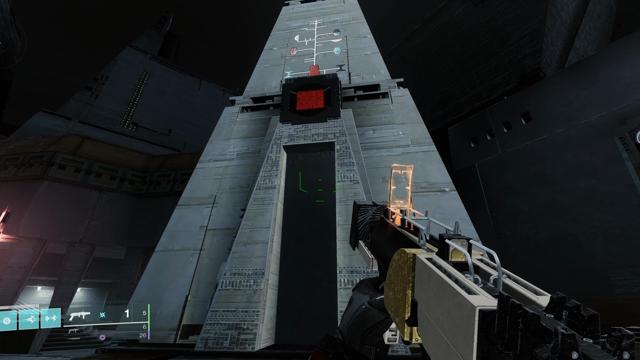brain: (626, 122, 640, 155)
stop: (288, 82, 332, 117)
